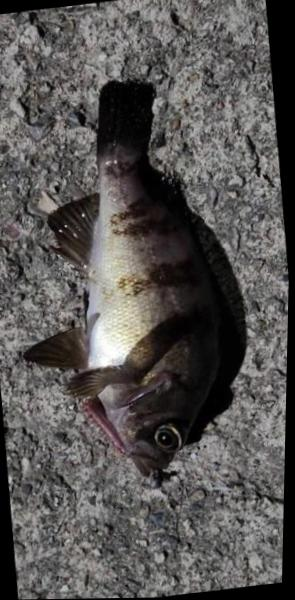fish: (25, 79, 224, 484)
